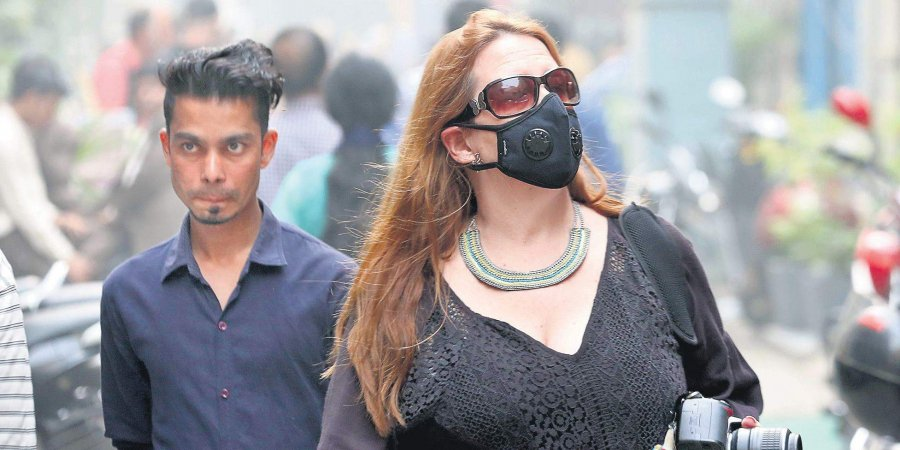mask: (400, 9, 606, 231)
noMask: (150, 37, 290, 237)
